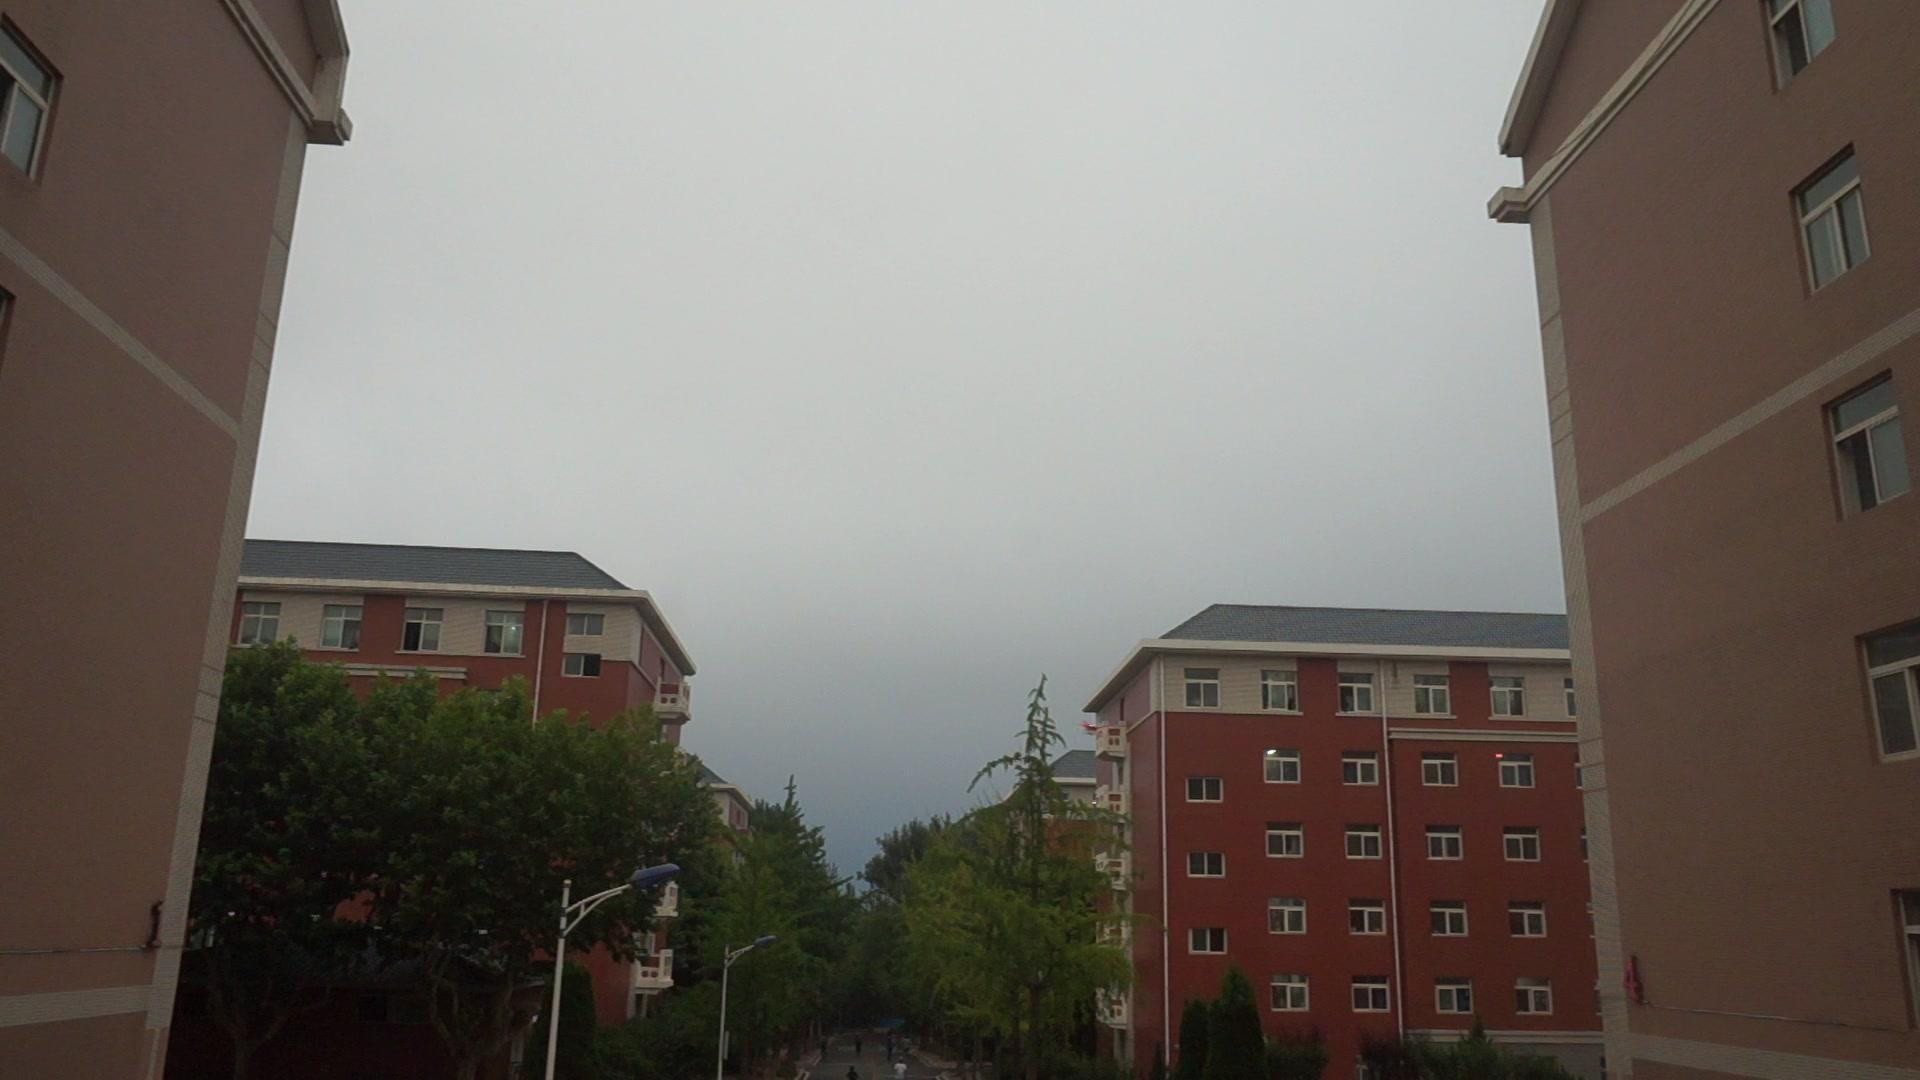UAV: (1083, 723, 1112, 737)
